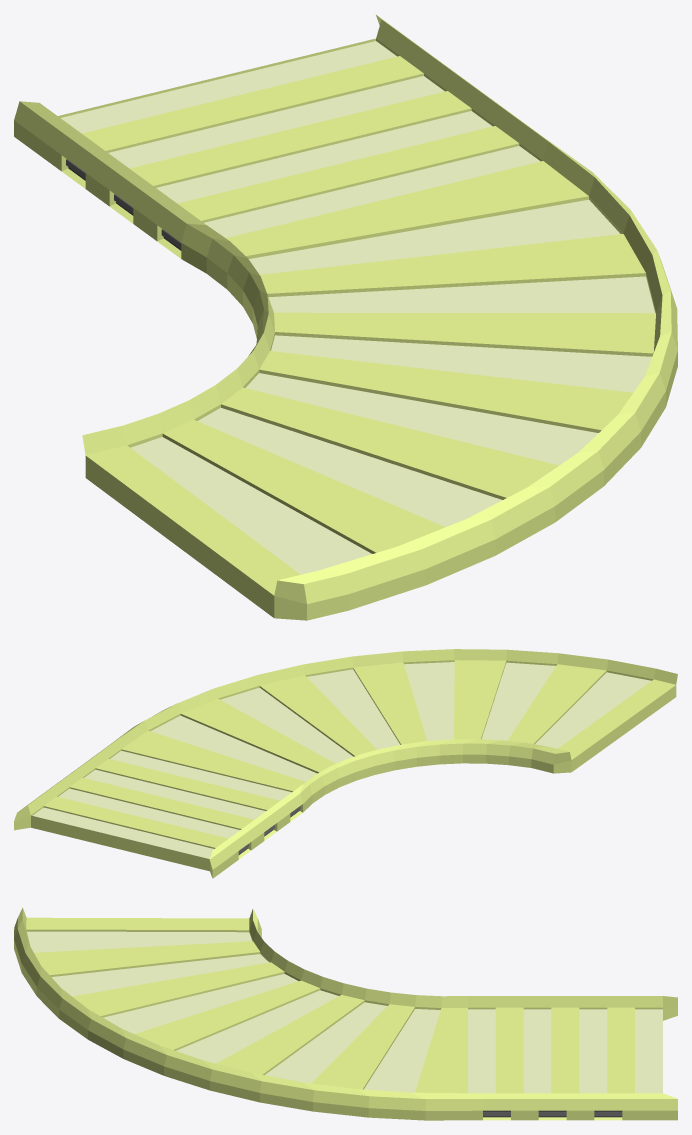
Rendered from Race Course curve.fbx.
3 renders of one model, top to bottom at view 1: azimuth 30°, elevation 25°; view 2: azimuth 150°, elevation 25°; view 3: azimuth 270°, elevation 25°, orthographic. The views are drawn at different scales.
Visible parts, largest first — view 1: Cube; view 2: Cube; view 3: Cube.
Part boxes in pixels (bbox=[...]): Cube: bbox=[14, 15, 677, 620]; Cube: bbox=[14, 649, 677, 878]; Cube: bbox=[14, 907, 677, 1120].
Size of the model in its own units: 1337 by 77.16 by 1978.
